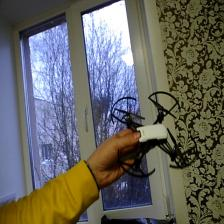drone: (110, 90, 200, 181)
